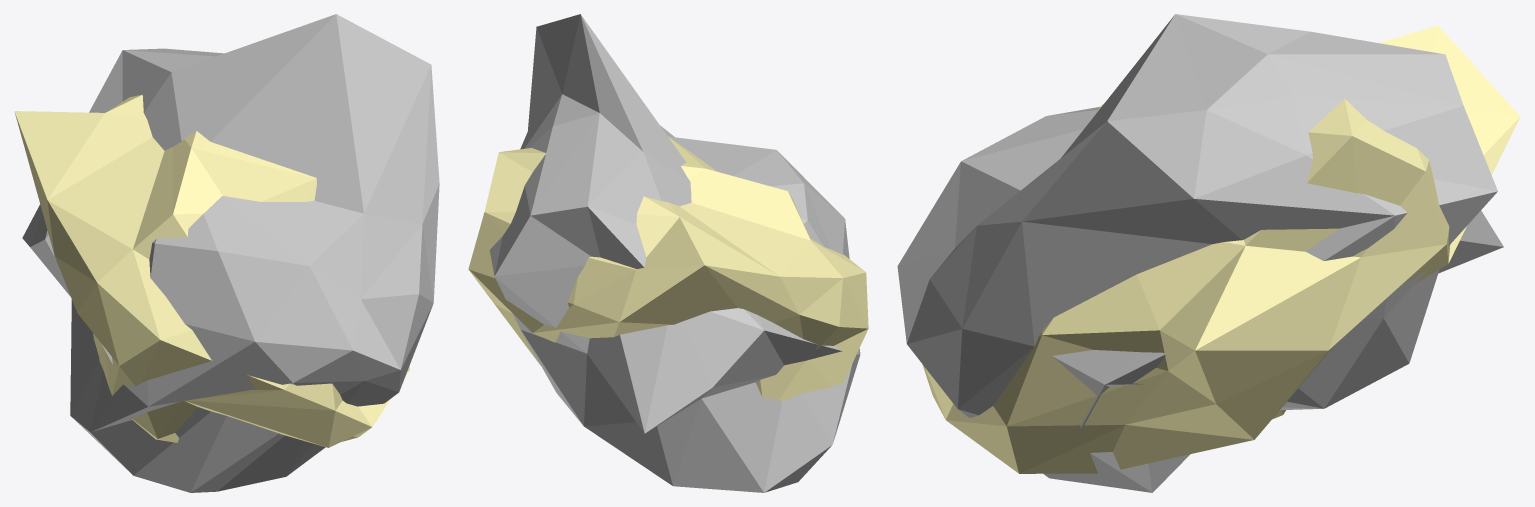
The model's file is stone1_00000.fbx.
3 views of the same model, side by side, from view 1: azimuth 30°, elevation 25°; view 2: azimuth 150°, elevation 25°; view 3: azimuth 270°, elevation 25° (orthographic). The views are drawn at different scales.
Parts seen in each view (by area): view 1: stone1; view 2: stone1; view 3: stone1.
Boxes of the visible parts, bbox=[...] form: stone1: bbox=[14, 14, 439, 492]; stone1: bbox=[468, 14, 868, 492]; stone1: bbox=[897, 14, 1520, 492].
Size of the model in its own units: 146 by 175 by 179.
